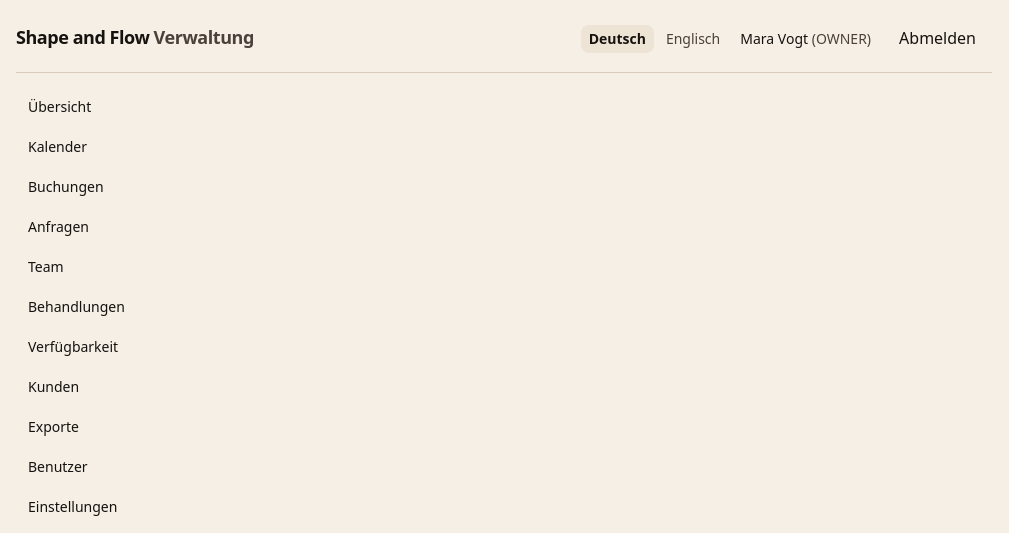
Scenario: OfficeLayout › renders in German by default and switches to English on demand
Check: the link with test id "nav-office-dashboard" reads "Übersicht", box [28,97,91,116]
Check: the button with test id "sign-out" reads "Abmelden", box [883,16,992,60]
Click the button with test id "locale-en" at (693, 39), box [658,25,728,53]
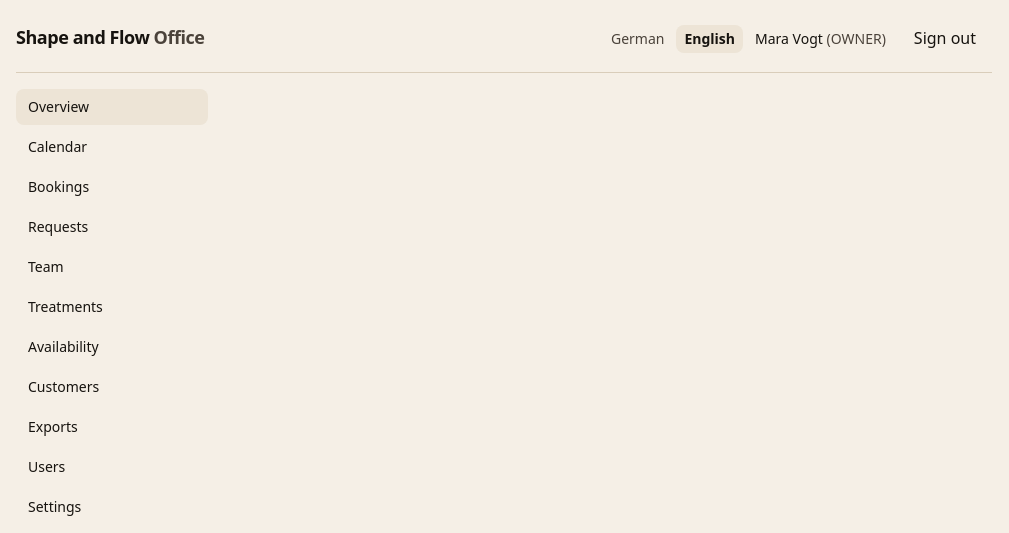
Check: the link with test id "nav-office-dashboard" reads "Overview", box [16,89,208,125]
Check: the button with test id "sign-out" reads "Sign out", box [898,16,992,60]
